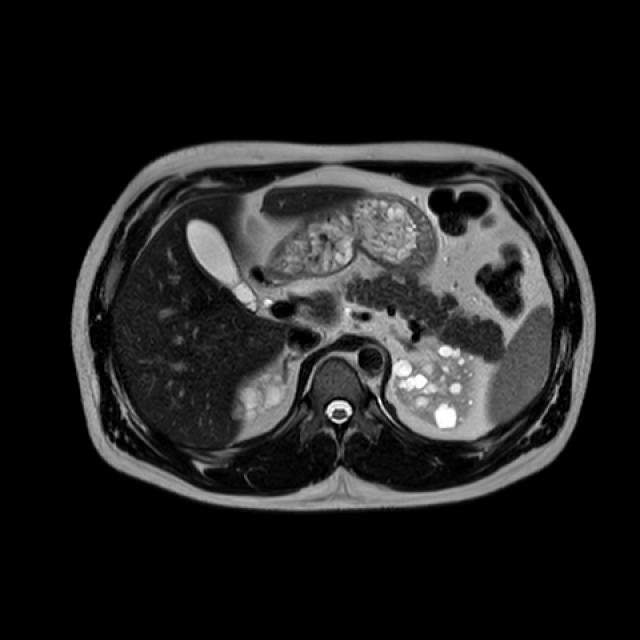sag: (234, 370, 293, 420)
sol: (396, 342, 476, 431)
